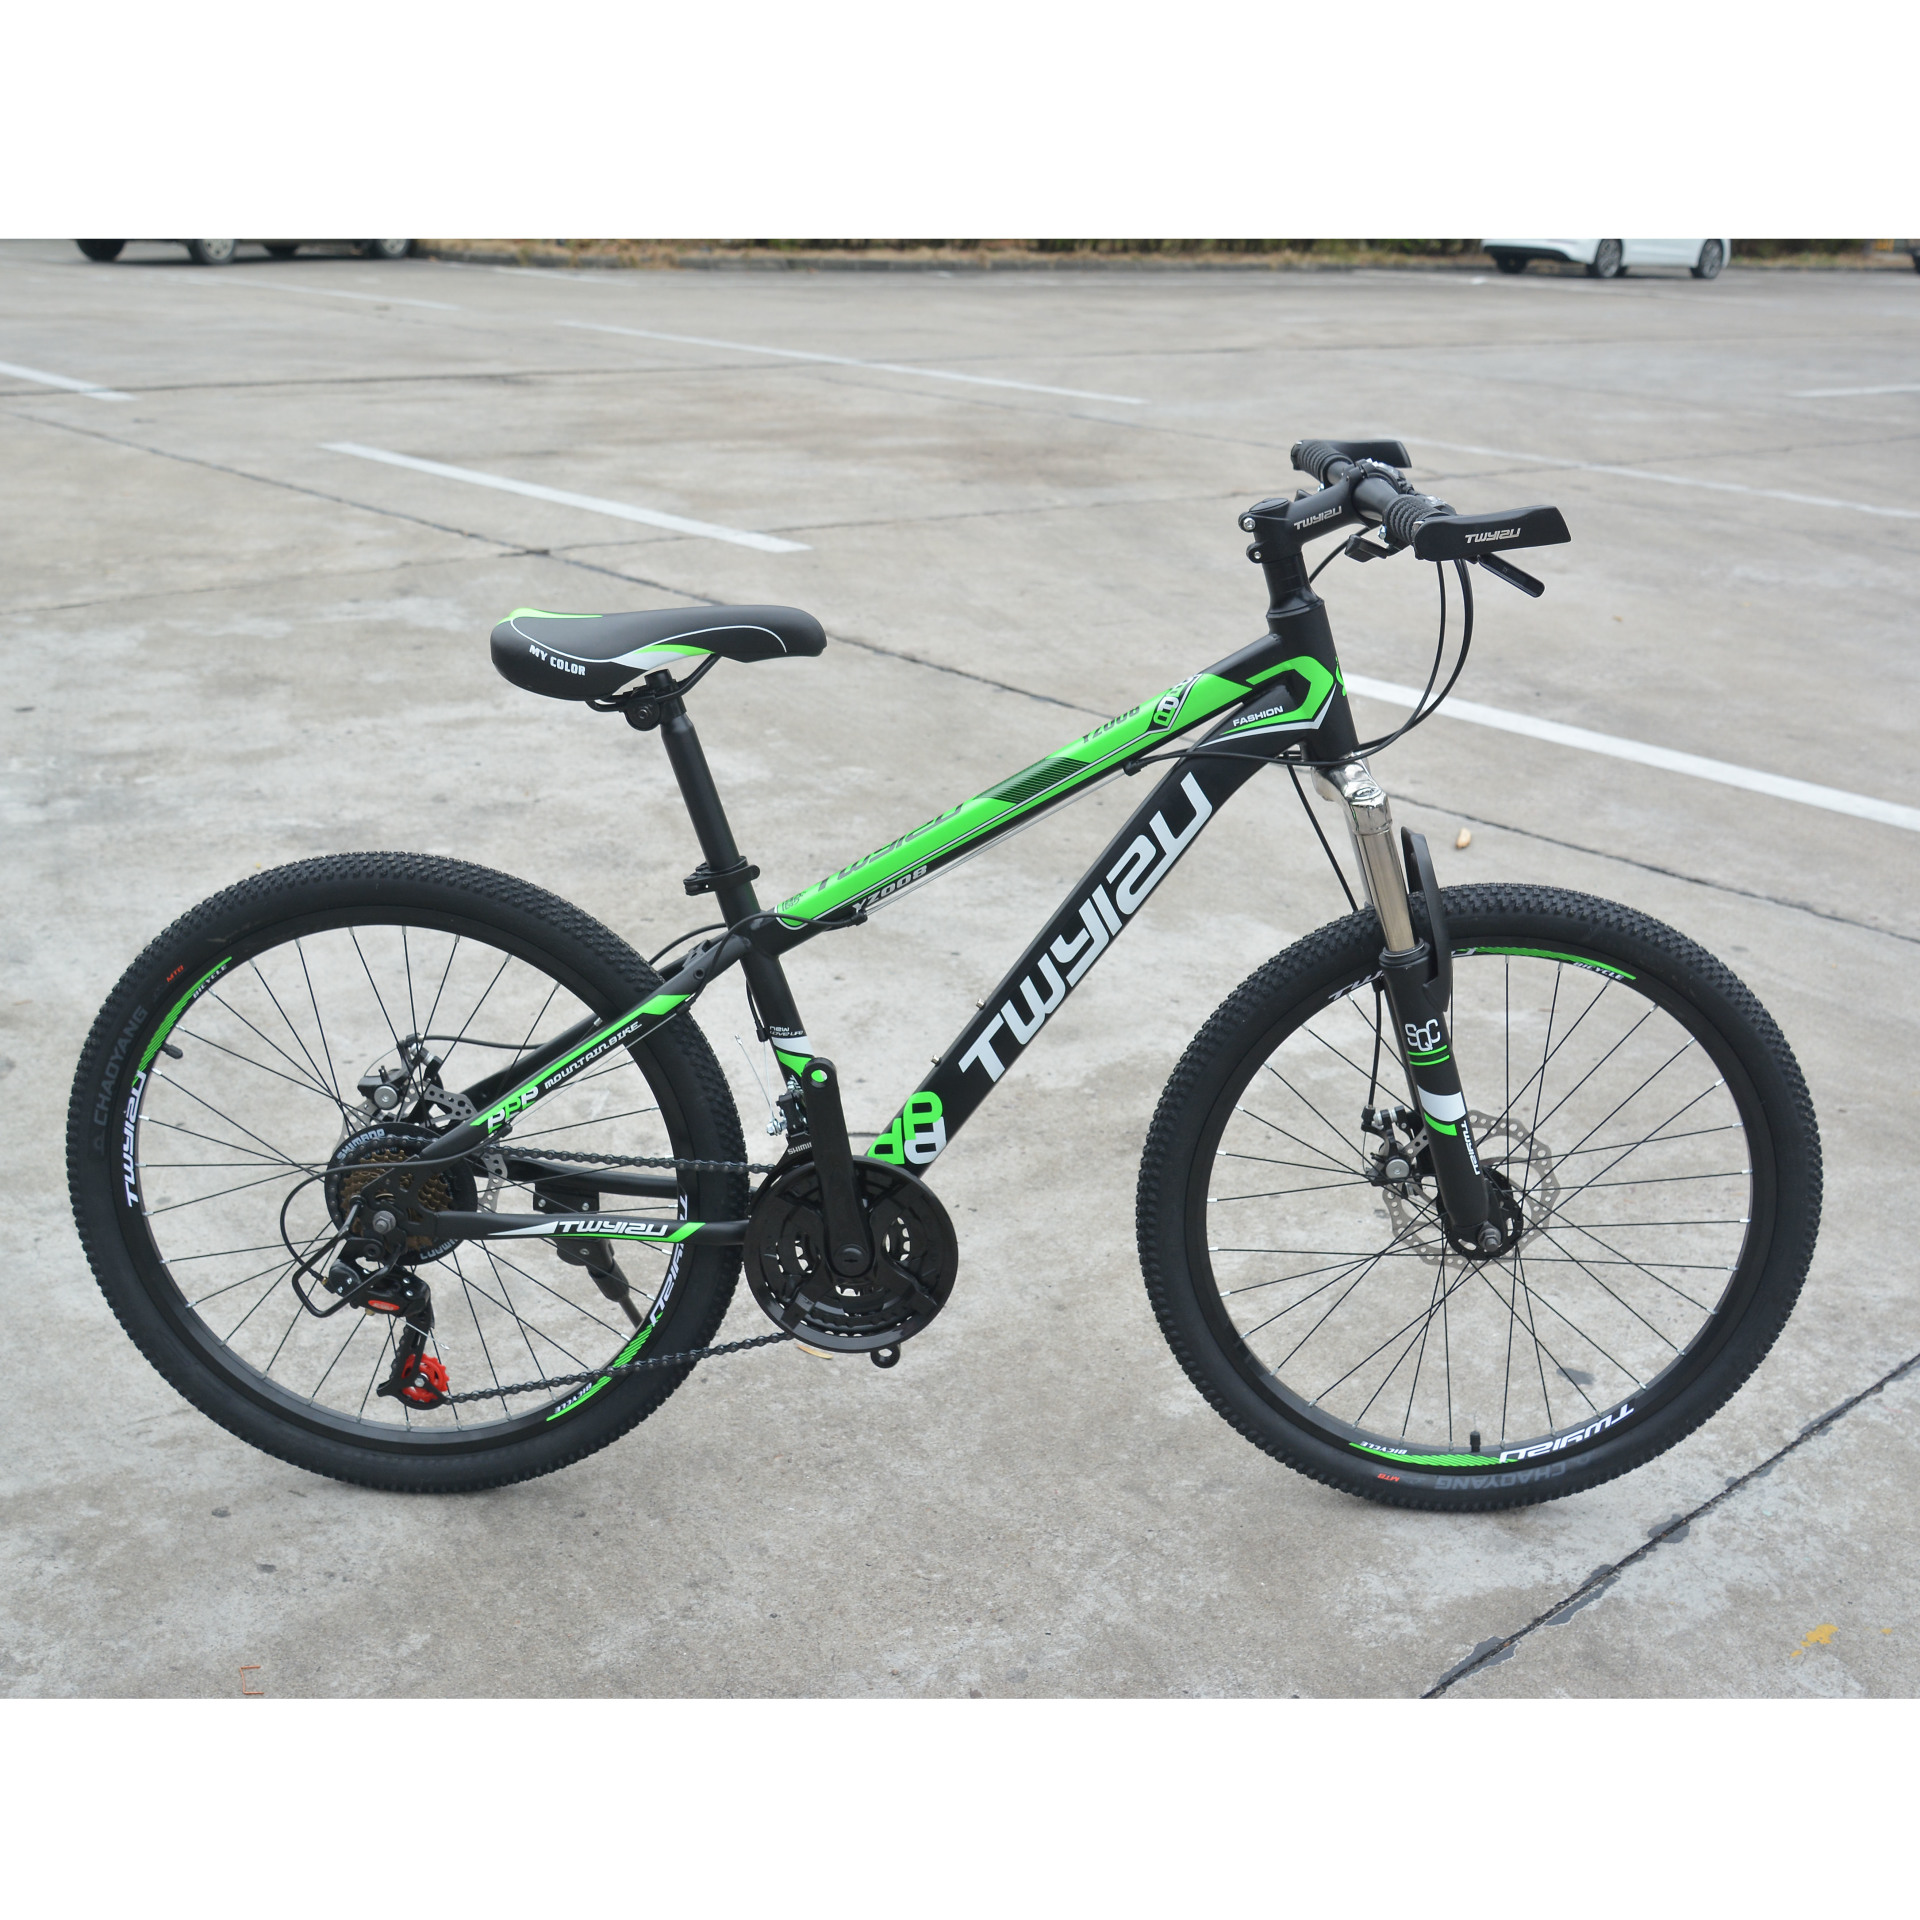MNV: (69, 440, 1823, 1514)
